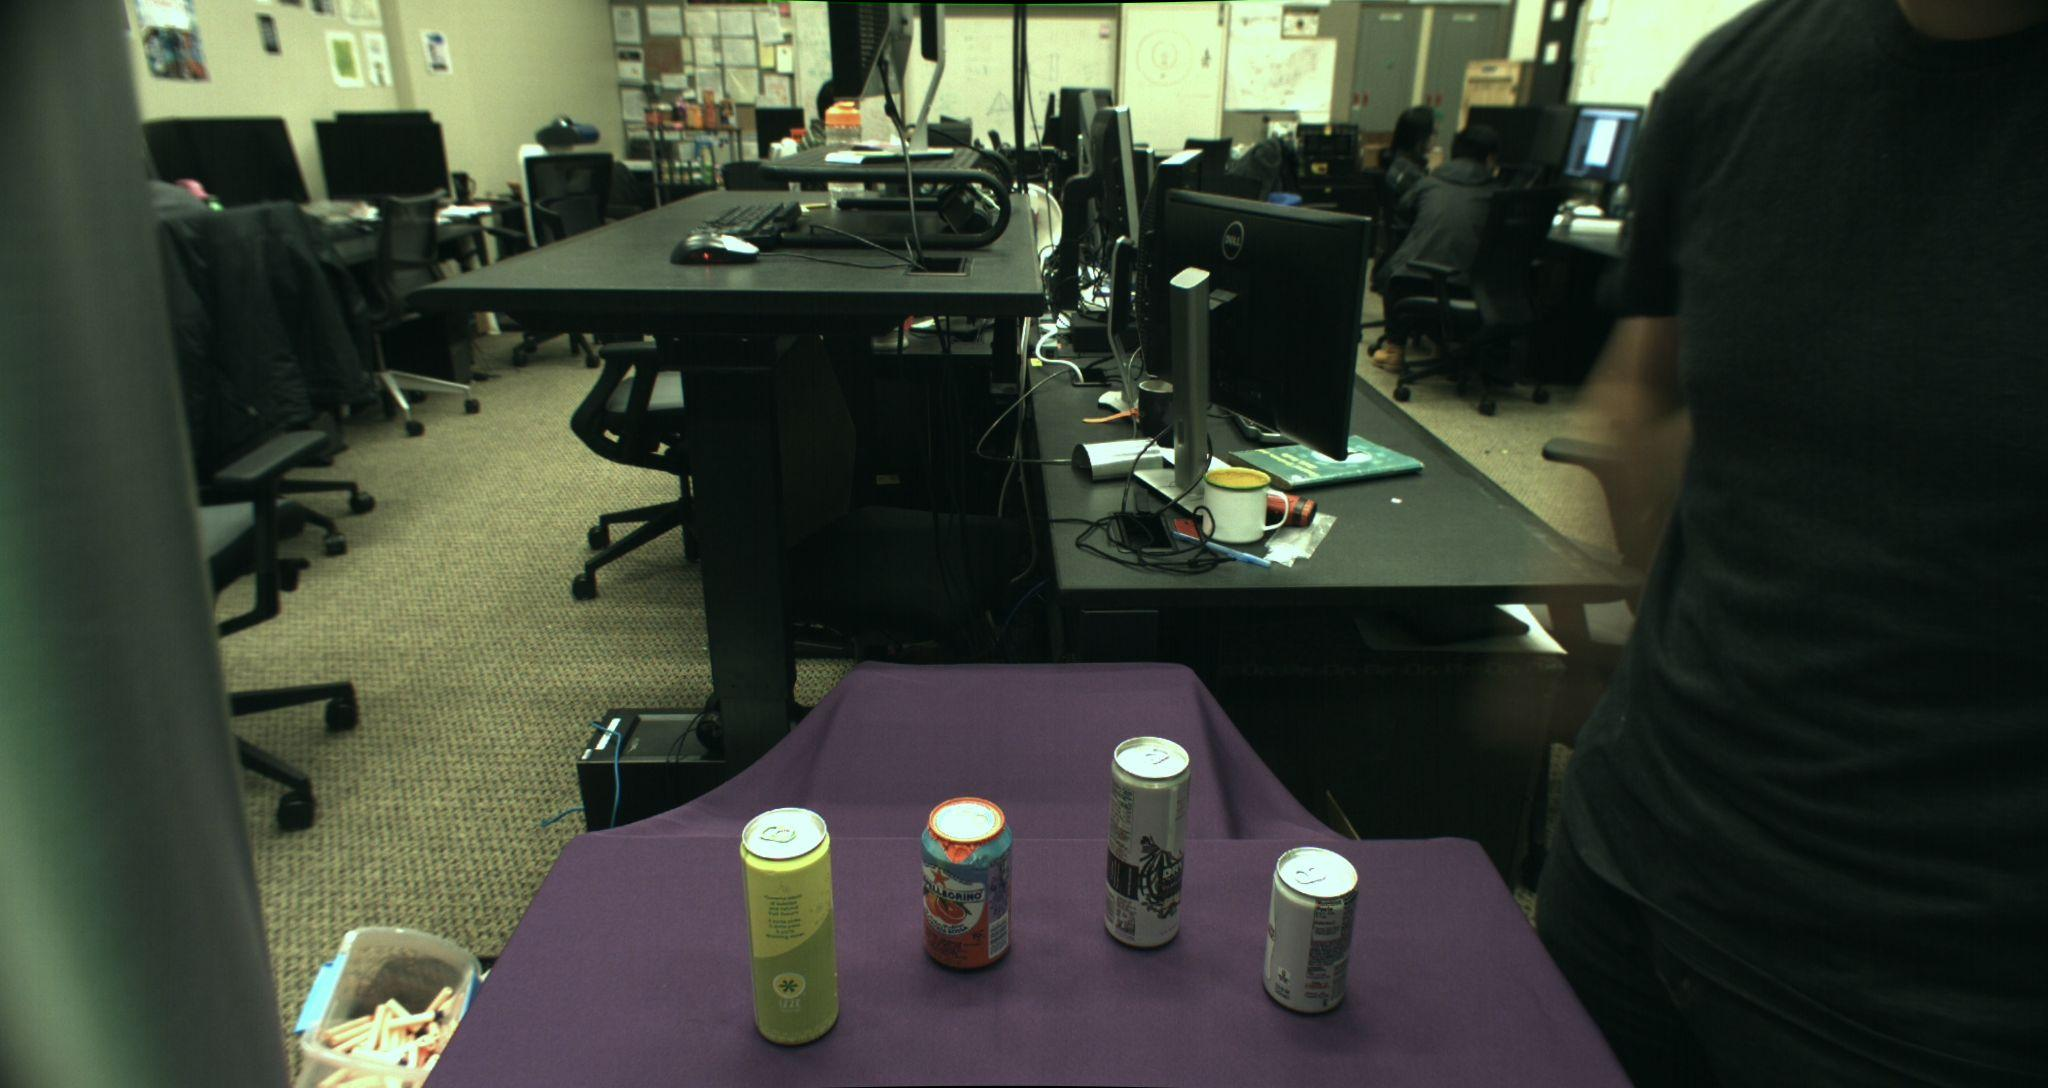can_diet_coke_small: (1261, 845, 1359, 1015)
can_dry_sparkling_vanilla_bean: (1104, 736, 1189, 948)
can_izze_fusions_lemon_lime: (738, 808, 838, 1047)
can_sanpellegrino_blood_orange: (920, 795, 1012, 971)
